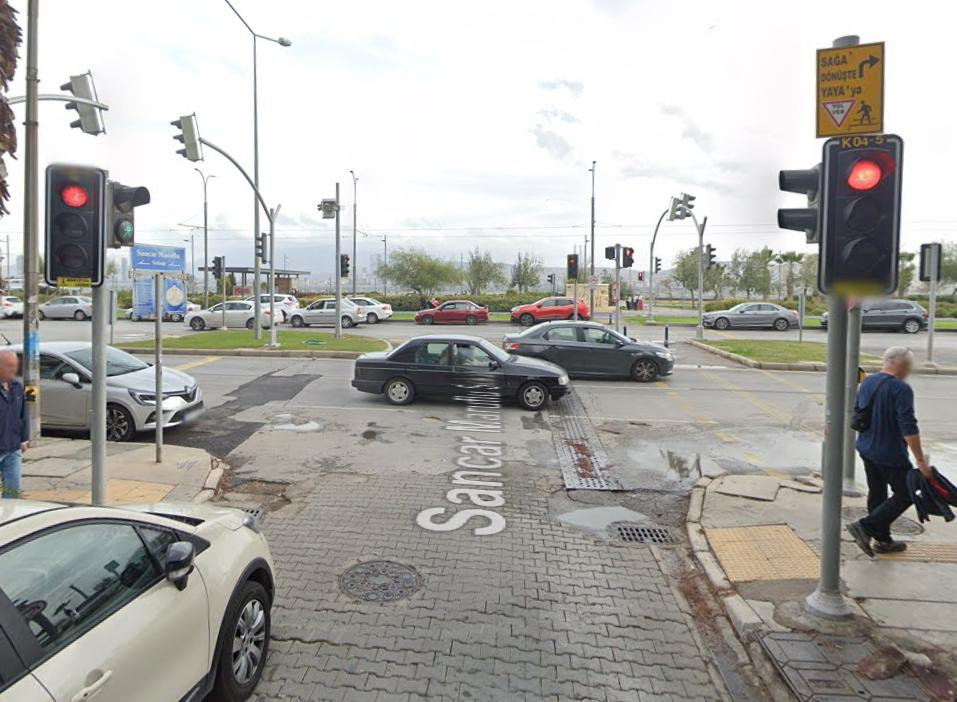redlight: (829, 144, 893, 282), (47, 162, 97, 279)
